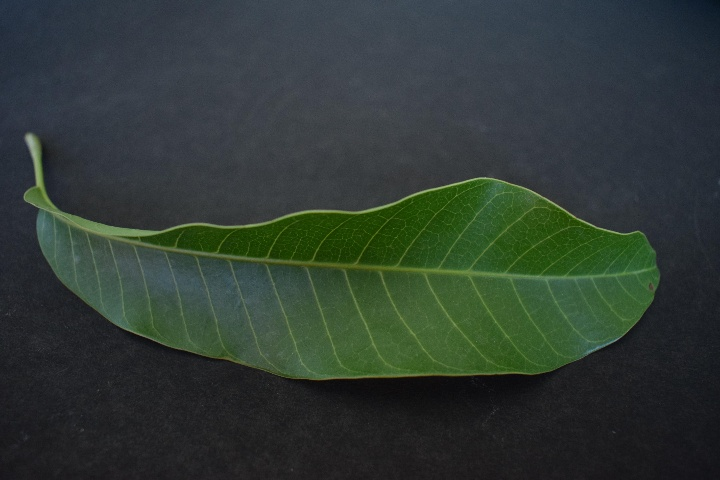healthy: (26, 175, 658, 381)
